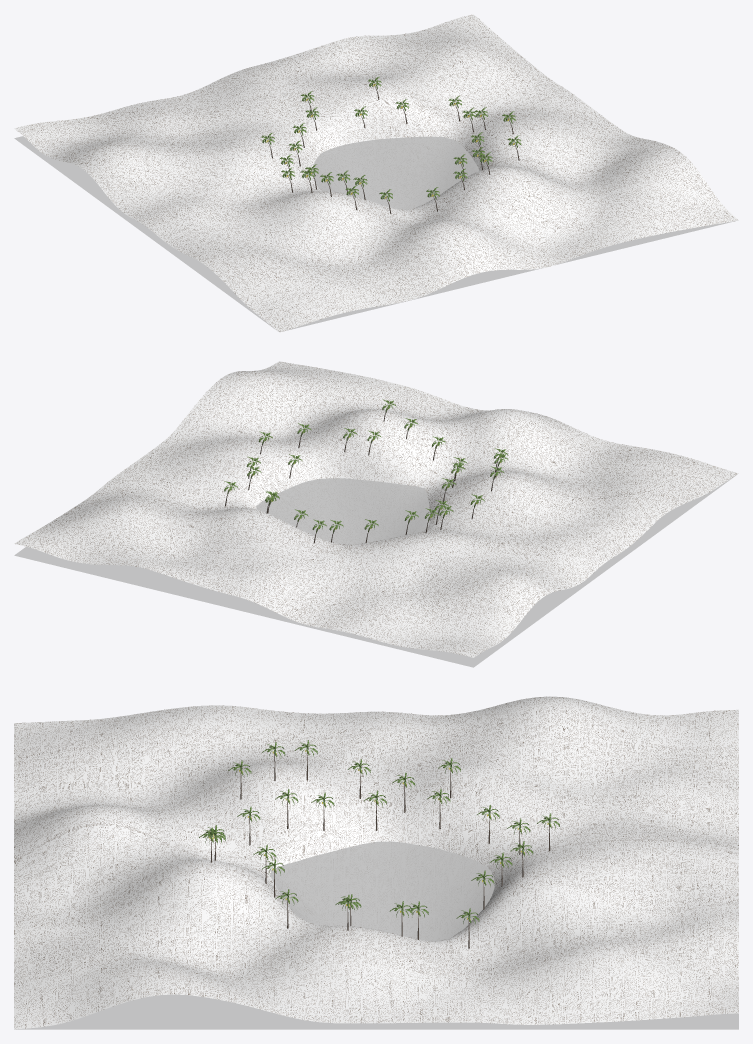
3 renders of one model, top to bottom at view 1: azimuth 30°, elevation 25°; view 2: azimuth 150°, elevation 25°; view 3: azimuth 270°, elevation 25°, orthographic. The views are drawn at different scales.
Visible parts, largest first — view 1: Oasis, Water; view 2: Oasis, Water; view 3: Oasis, Water.
Boxes of the visible parts, x1,y1,x2,y2 form: Oasis: (14,14,738,332); Water: (14,136,738,331); Oasis: (14,361,738,657); Water: (14,408,737,667); Oasis: (14,696,738,1029); Water: (14,841,738,1029).
Size of the model in its own units: 6000 by 6000 by 1542.
